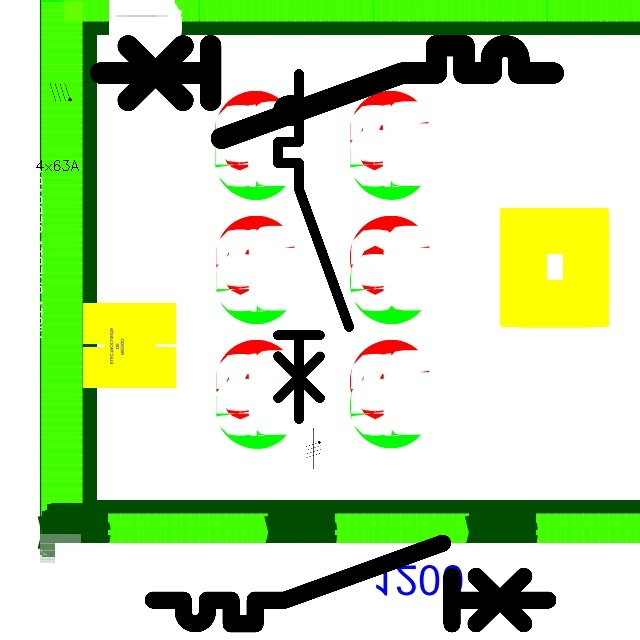interruptor_termomagnetico: (88, 34, 564, 150), (143, 533, 558, 634), (269, 65, 358, 428)
